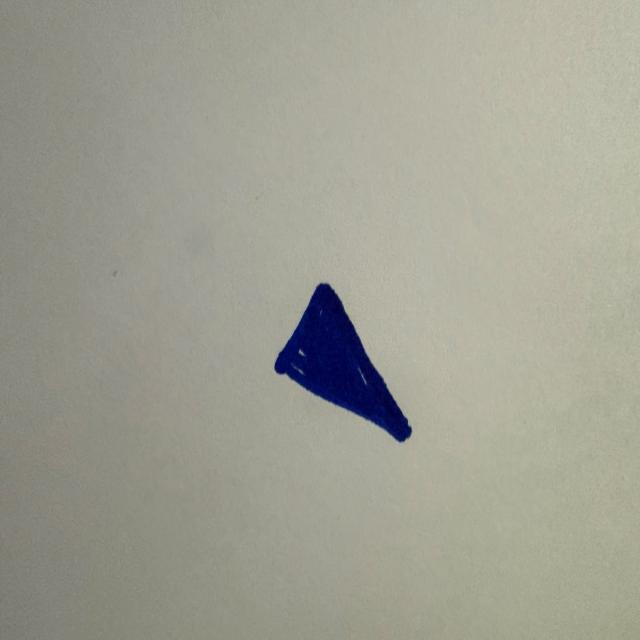Triangle: (274, 283, 412, 441)
